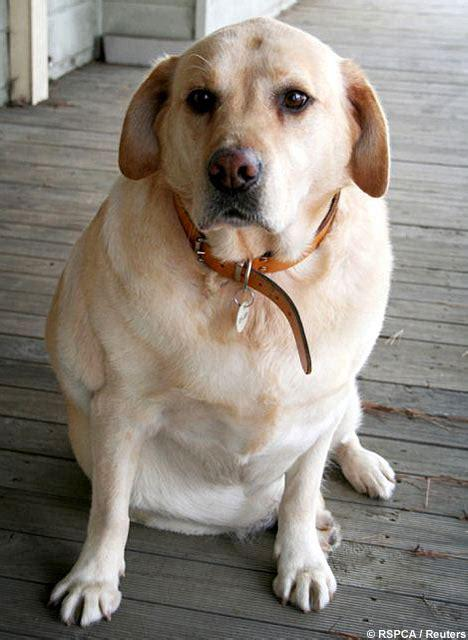dog: (47, 20, 393, 621)
